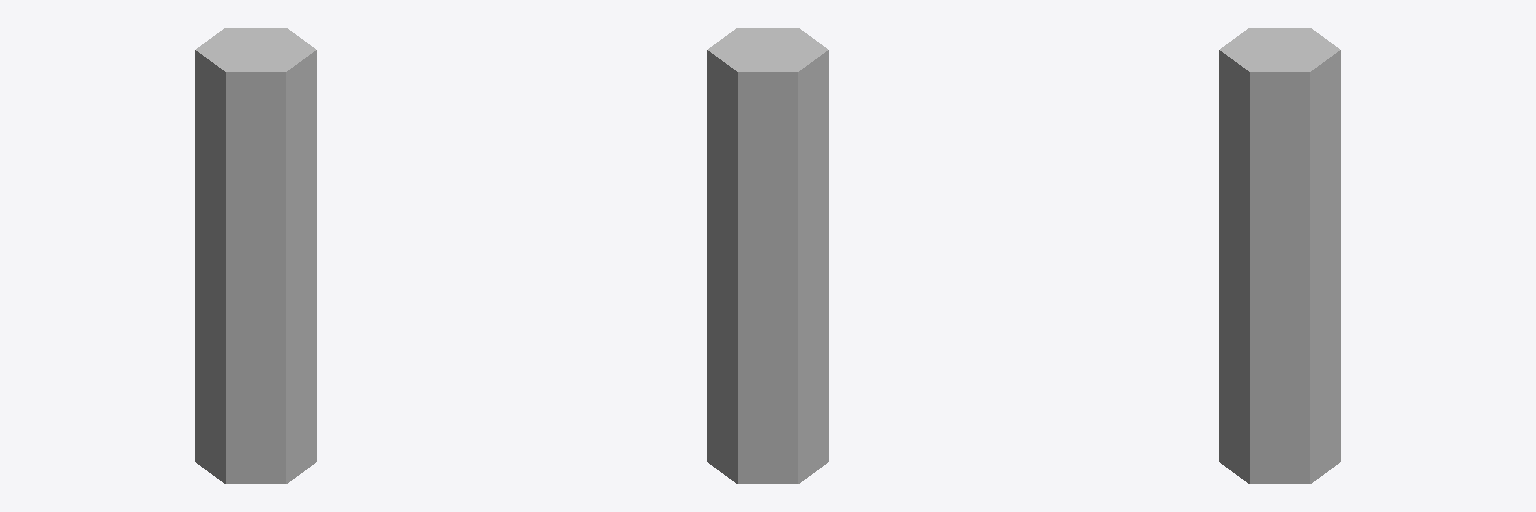
Rendered from trunk.obj.
The picture shows the model from 3 angles: view 1: azimuth 30°, elevation 25°; view 2: azimuth 150°, elevation 25°; view 3: azimuth 270°, elevation 25°; orthographic projection.
Visible parts, largest first — view 1: Cylinder; view 2: Cylinder; view 3: Cylinder.
Boxes of the visible parts, box(x1,y1,x2,y2) form: Cylinder: box(195, 28, 316, 483); Cylinder: box(707, 28, 828, 483); Cylinder: box(1219, 28, 1340, 483).
Size of the model in its own units: 0.4625 by 2 by 0.534.